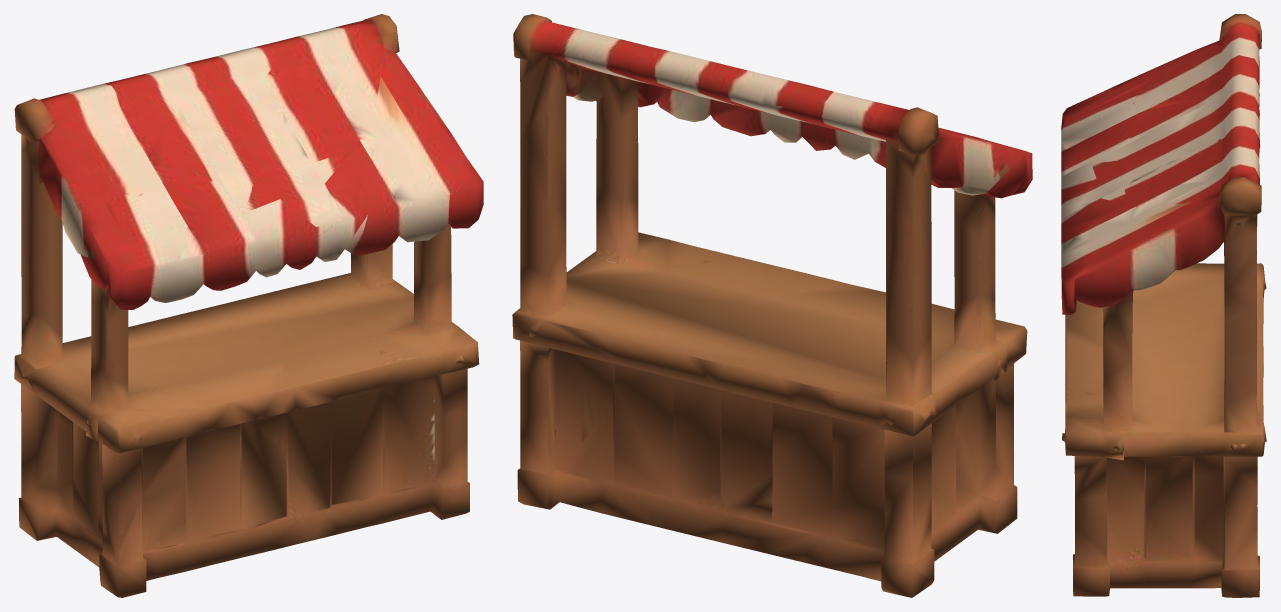
Rendered from marketstall.glb.
The picture shows the model from 3 angles, left to right: view 1: azimuth 30°, elevation 25°; view 2: azimuth 150°, elevation 25°; view 3: azimuth 270°, elevation 25°; orthographic projection. The views are drawn at different scales.
Visible parts, largest first — view 1: model; view 2: model; view 3: model.
Boxes of the visible parts, x1,y1,x2,y2 form: model: (14,14,483,597); model: (512,14,1032,597); model: (1061,14,1266,597).
Bounding box in the file's own units: 1.71 × 1.9 × 0.85.
Materials: 1 (1 with a texture image).
